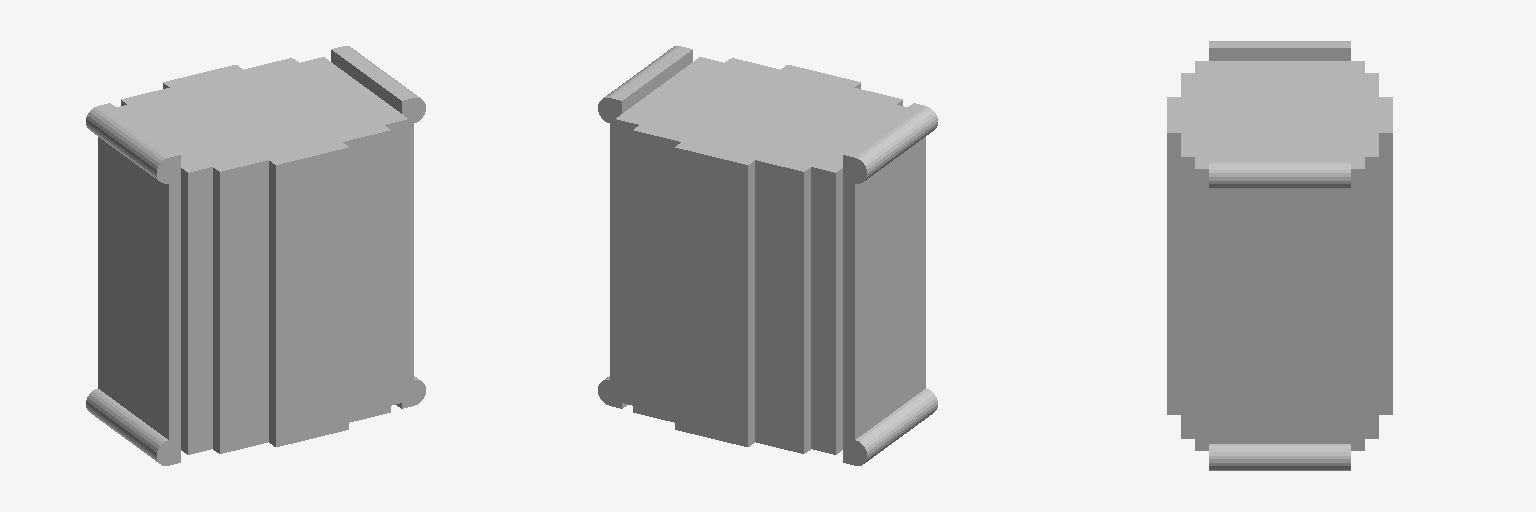
File: barrel.obj
The picture shows the model from 3 angles: view 1: azimuth 30°, elevation 25°; view 2: azimuth 150°, elevation 25°; view 3: azimuth 270°, elevation 25°; orthographic projection.
Bounding box in the file's own units: 11 × 12 × 8.